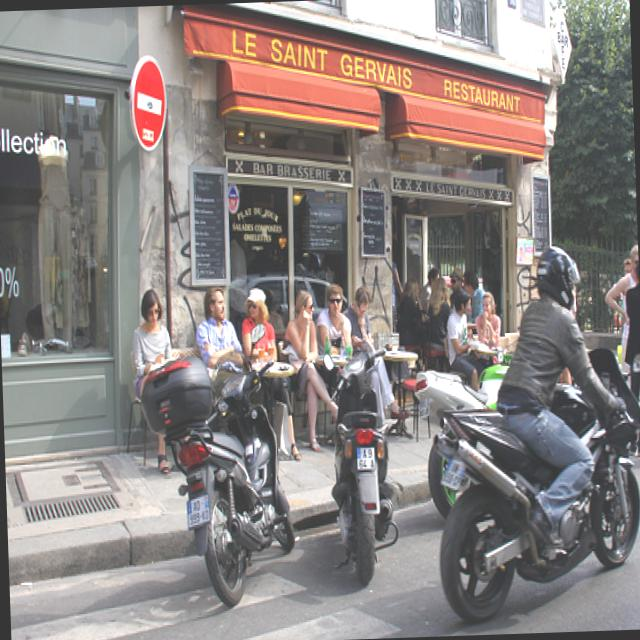Vehicle: (432, 347, 640, 627), (136, 319, 298, 611), (324, 356, 401, 592), (412, 363, 514, 512)
